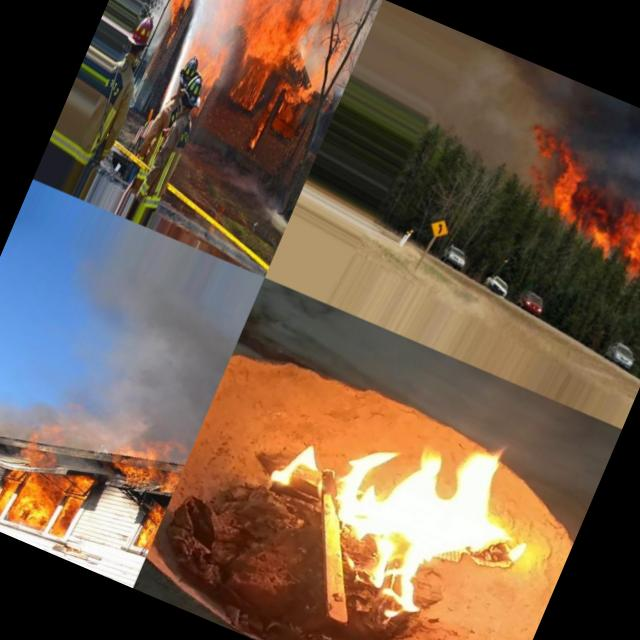fire: (227, 342, 584, 640), (0, 422, 102, 554), (213, 0, 348, 76), (508, 123, 596, 209), (108, 418, 194, 506), (278, 22, 350, 120), (223, 49, 277, 112), (602, 206, 640, 280), (246, 82, 284, 156), (130, 501, 167, 554), (147, 0, 218, 26), (195, 40, 229, 84)
smoke: (6, 264, 236, 442), (506, 60, 618, 148), (581, 99, 640, 229), (38, 373, 102, 464), (569, 189, 622, 235), (329, 0, 382, 45)
